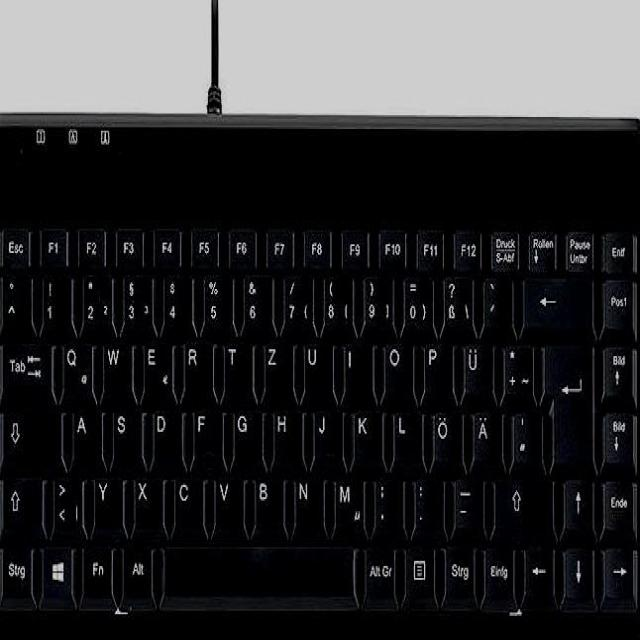0: (399, 270, 430, 330)
1: (39, 270, 69, 332)
2: (78, 268, 111, 332)
3: (118, 269, 150, 331)
4: (159, 269, 189, 331)
5: (199, 269, 231, 329)
6: (239, 269, 270, 331)
7: (278, 268, 311, 334)
8: (318, 268, 352, 334)
9: (359, 270, 391, 332)
a: (68, 403, 100, 468)
accent: (480, 270, 509, 325)
ae: (469, 405, 499, 465)
alt-left: (120, 538, 151, 597)
altgr-right: (361, 538, 395, 604)
b: (250, 472, 282, 527)
c: (170, 471, 202, 530)
caret: (0, 269, 29, 326)
comma: (371, 472, 400, 534)
d: (148, 403, 180, 468)
del: (518, 270, 592, 325)
e: (139, 334, 171, 397)
enter: (539, 334, 592, 470)
f: (188, 403, 220, 463)
g: (229, 404, 259, 463)
h: (269, 404, 301, 468)
hash: (508, 405, 539, 465)
i: (339, 335, 370, 394)
j: (309, 404, 340, 463)
k: (348, 404, 380, 468)
keyboard: (0, 208, 640, 635)
l: (390, 406, 419, 459)
less: (49, 470, 81, 533)
m: (329, 472, 363, 539)
minus: (449, 470, 481, 535)
n: (290, 472, 322, 529)
o: (378, 338, 411, 398)
oe: (428, 406, 460, 468)
p: (419, 335, 451, 394)
plus: (500, 338, 530, 398)
point: (410, 472, 441, 527)
q: (58, 337, 92, 399)
r: (178, 335, 211, 394)
s: (107, 403, 141, 466)
shift-left: (0, 472, 40, 534)
shift-lock: (0, 402, 60, 468)
shift-right: (489, 471, 552, 530)
space: (160, 539, 357, 601)
ss: (438, 270, 471, 332)
strg-left: (0, 539, 32, 606)
strg-right: (441, 539, 475, 606)
t: (219, 336, 252, 398)
tab: (0, 334, 51, 397)
u: (298, 336, 330, 399)
ue: (459, 336, 490, 399)
v: (211, 472, 241, 527)
w: (98, 336, 130, 396)
x: (131, 471, 160, 525)
y: (91, 472, 121, 527)
z: (259, 336, 291, 399)
